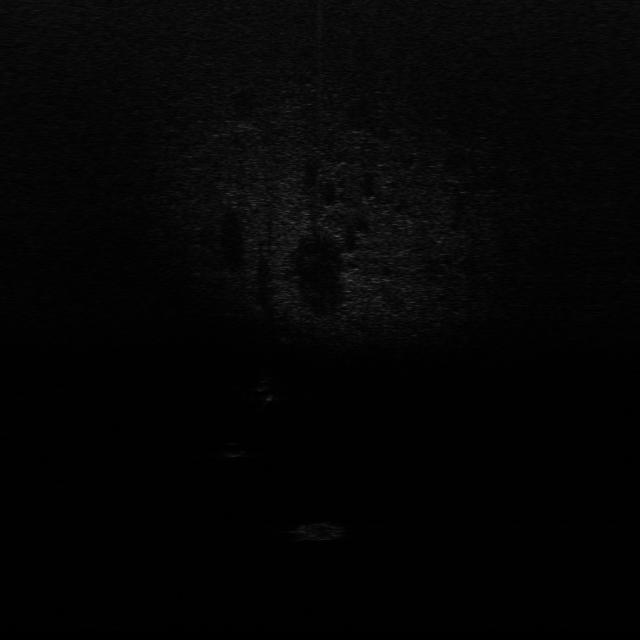ball: (220, 439, 246, 459)
circle cage: (296, 518, 346, 542)
human body: (256, 372, 278, 413)
